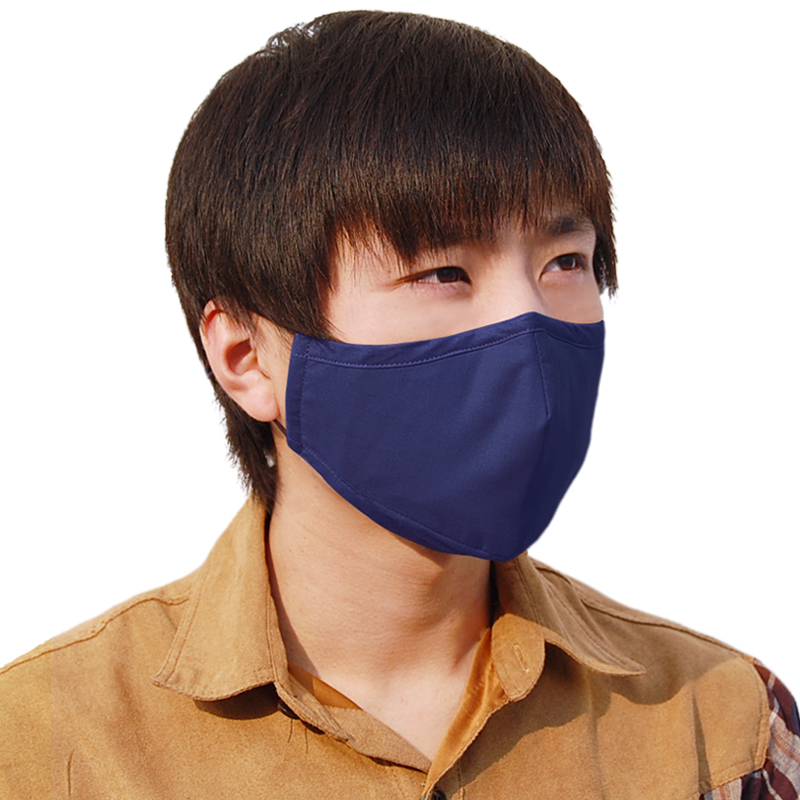face_mask: (301, 111, 607, 529)
